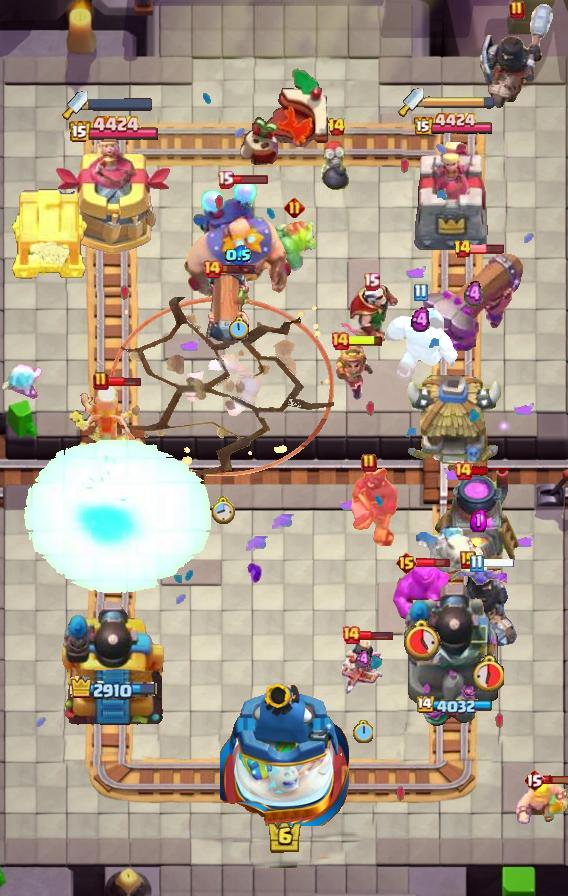archer: (514, 780, 568, 828)
bar: (55, 142, 173, 256), (412, 140, 494, 256)
barbarian: (449, 563, 507, 589)
bat: (0, 363, 44, 399)
battle-healer: (204, 268, 252, 348)
bomb: (9, 186, 89, 280)
bomber-evolution: (332, 342, 376, 400)
electro-spirit: (464, 280, 484, 308), (225, 245, 251, 266), (411, 307, 430, 333), (469, 508, 486, 532), (356, 649, 370, 671)
elixir: (402, 619, 443, 662), (471, 654, 505, 692), (209, 495, 234, 524), (227, 317, 248, 341), (353, 720, 373, 743)
emote: (348, 333, 384, 346), (417, 555, 452, 568), (219, 263, 256, 275), (469, 243, 505, 255), (232, 175, 269, 186), (106, 376, 142, 387), (359, 630, 394, 641), (482, 558, 515, 568), (544, 775, 568, 786), (470, 465, 489, 477)
freeze: (340, 465, 398, 551)
furnace: (420, 249, 526, 355)
guard: (110, 297, 334, 476)
hunter: (433, 468, 523, 576)
ice-golem: (319, 140, 353, 194)
inferno-dragon: (476, 1, 558, 111), (455, 566, 519, 649)
king-tower: (219, 678, 349, 826)
king-tower-bar: (424, 95, 496, 109), (88, 97, 152, 110)
little-prince: (182, 178, 294, 298)
mega-knight: (17, 435, 214, 597)
mini-pekka: (413, 512, 487, 576)
poison: (67, 378, 155, 452)
prince: (402, 375, 504, 471)
rage: (380, 299, 460, 381)
selected: (68, 115, 160, 145), (69, 676, 158, 703), (414, 112, 495, 138), (414, 696, 492, 716)
skeleton-dragon: (341, 639, 385, 699)
skeleton-king: (335, 282, 407, 348)
text: (395, 551, 418, 575), (523, 768, 545, 792), (284, 197, 305, 219), (202, 259, 222, 279), (330, 331, 350, 351), (453, 461, 473, 481), (341, 625, 361, 645), (326, 117, 345, 137), (452, 239, 471, 259), (509, 0, 525, 20), (93, 371, 109, 391), (361, 453, 377, 473), (217, 171, 234, 189), (364, 273, 381, 291), (460, 551, 476, 569), (413, 283, 428, 301), (469, 554, 483, 573)
tornado: (393, 561, 449, 621)
tower-bar: (402, 579, 504, 731), (58, 595, 170, 731)
valkyrie-evolution: (268, 220, 320, 272)
